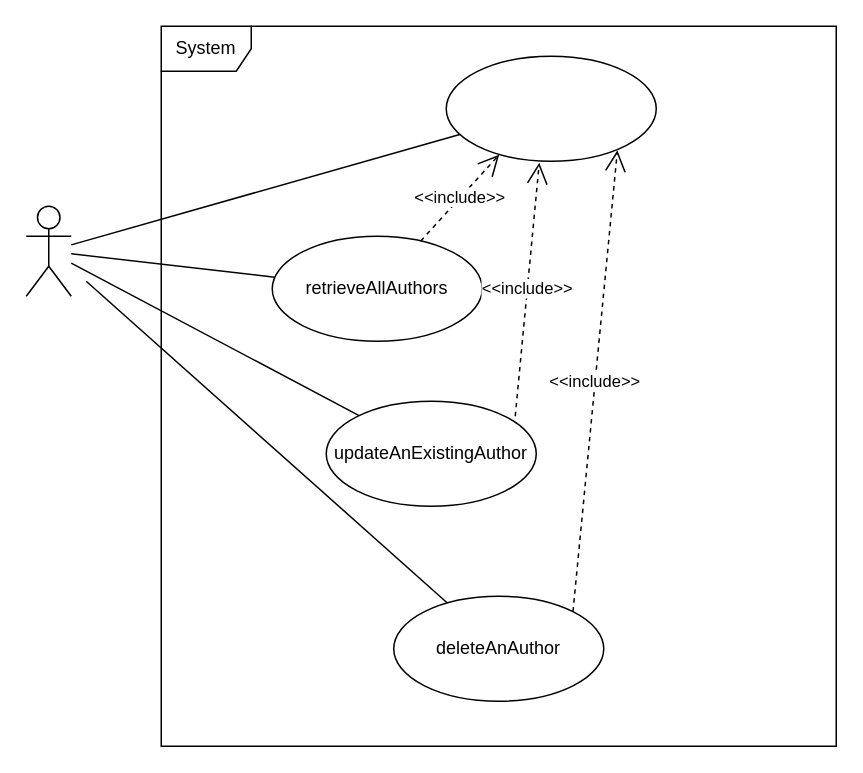
Some shapes in this 863 by 773 pixel diagram are drawn without their labels. Each missing label, with the box of its shape:
addANewAuthor: (445, 55, 656, 161)
User: (25, 205, 71, 296)
